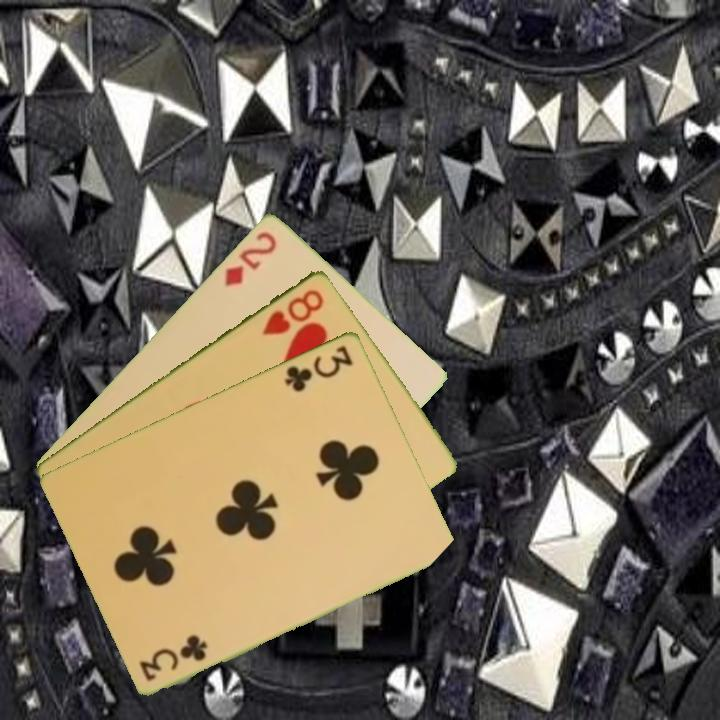2d: (220, 227, 280, 290)
3c: (281, 341, 356, 395), (136, 632, 211, 684)
8h: (258, 285, 327, 338)
